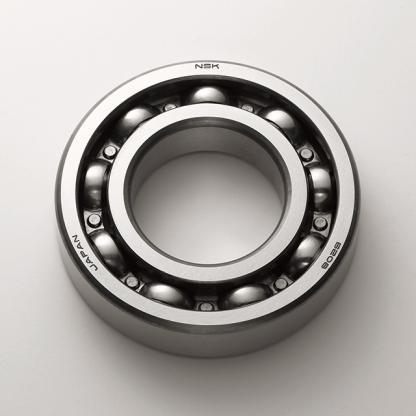FOD: (47, 50, 368, 366)
